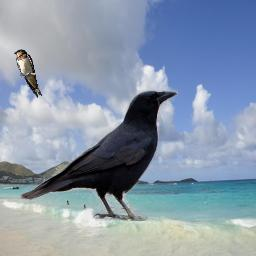Crow: (20, 90, 178, 221)
Swallow: (13, 49, 42, 98)
